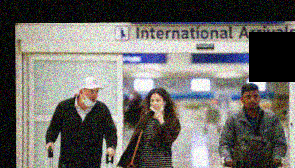mask_weared_incorrect: (82, 87, 100, 104), (149, 96, 165, 112)
without_mask: (242, 91, 260, 109)
